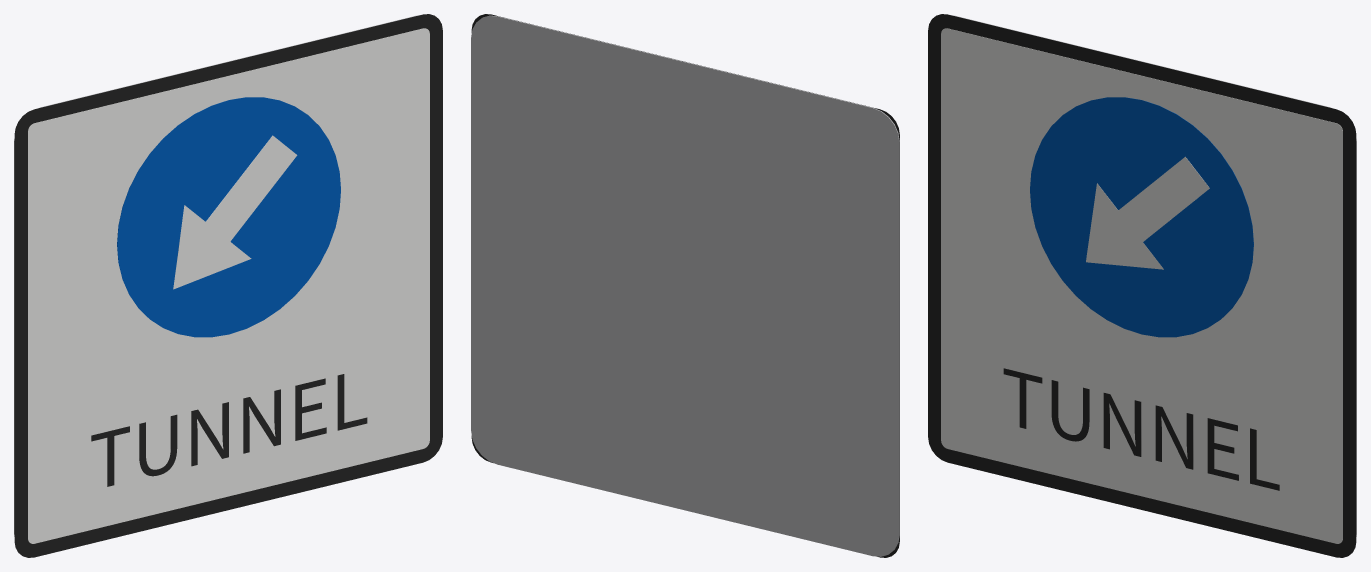
3 renders of one model, left to right at view 1: azimuth 30°, elevation 25°; view 2: azimuth 150°, elevation 25°; view 3: azimuth 330°, elevation 25°, orthographic.
Parts seen in each view (by area): view 1: C117-B21c1_r01, C117-B21c1_d02, C117-B21c1_r00, C117-B21c1_p03, C117-B21c1_txt04, C117-B21c1_dos; view 2: C117-B21c1_dos, C117-B21c1_r00; view 3: C117-B21c1_r01, C117-B21c1_d02, C117-B21c1_r00, C117-B21c1_p03, C117-B21c1_txt04, C117-B21c1_dos.
Boxes of the visible parts, x1,y1,x2,y2 form: C117-B21c1_r01: (28,28,429,543); C117-B21c1_d02: (117,97,340,337); C117-B21c1_r00: (14,14,442,557); C117-B21c1_p03: (173,135,297,289); C117-B21c1_txt04: (91,374,367,486); C117-B21c1_dos: (14,15,416,536); C117-B21c1_dos: (471,15,899,556); C117-B21c1_r00: (471,14,899,557); C117-B21c1_r01: (941,28,1342,543); C117-B21c1_d02: (1030,97,1253,337); C117-B21c1_r00: (928,14,1356,557); C117-B21c1_p03: (1086,157,1209,269); C117-B21c1_txt04: (1003,368,1279,490); C117-B21c1_dos: (954,15,1356,536).
Bounding box in the file's own units: 0.65 × 0.65 × 0.0033.
